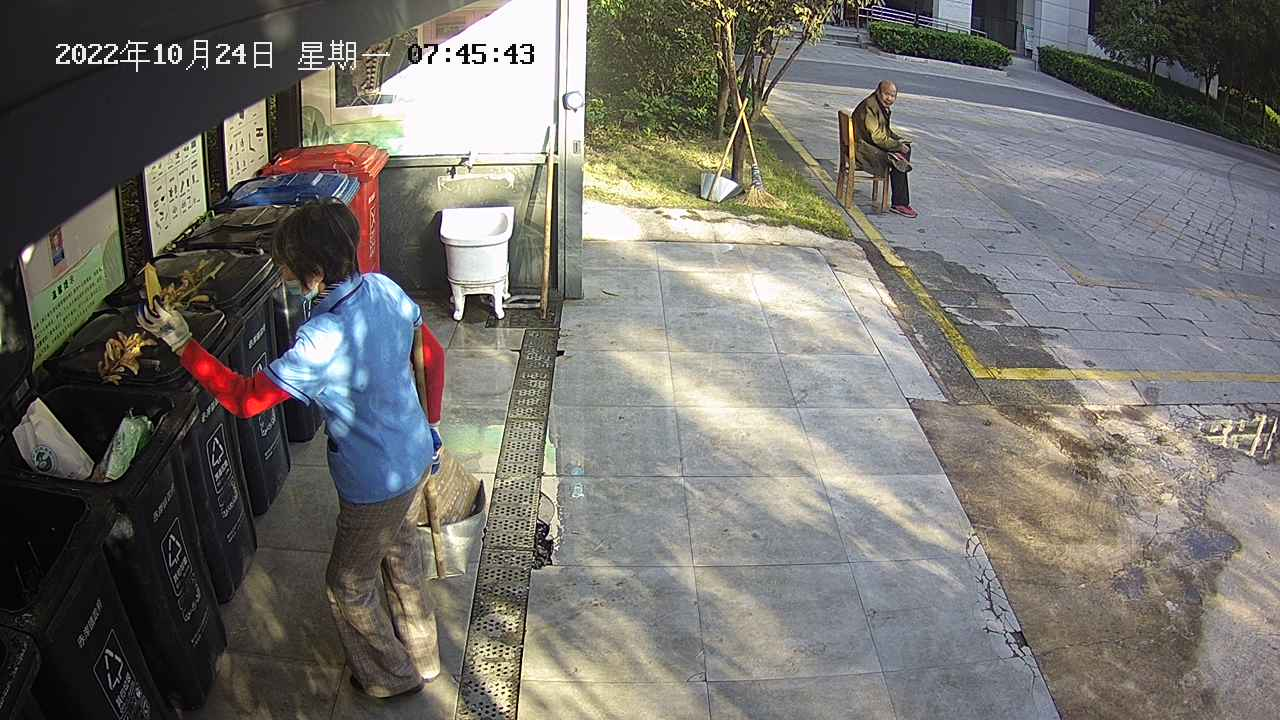person: (844, 76, 928, 220)
worker: (131, 191, 463, 713)
